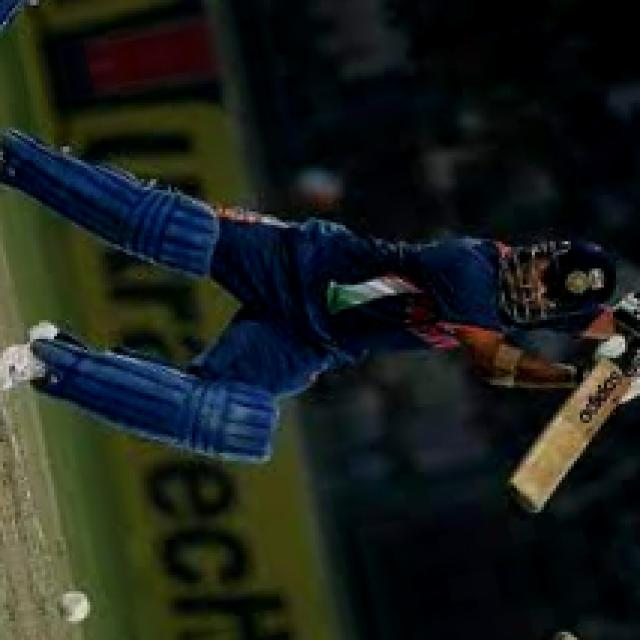toe: (493, 444, 564, 523)
